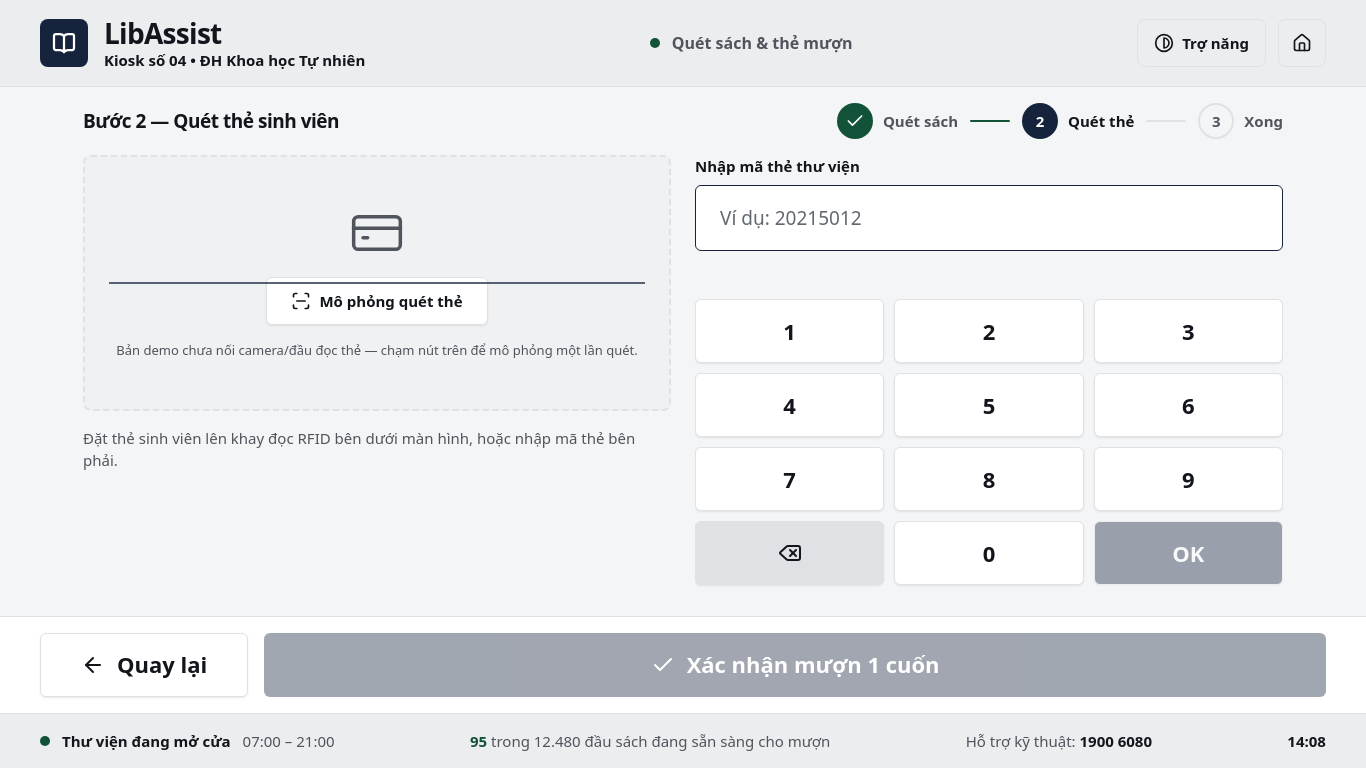
Step 2 — the card check › refuses an expired card and says how to fix it
Type "20219999" into the field labelled "Nhập mã thẻ thư viện" at (989, 218), box [720, 186, 1258, 250]
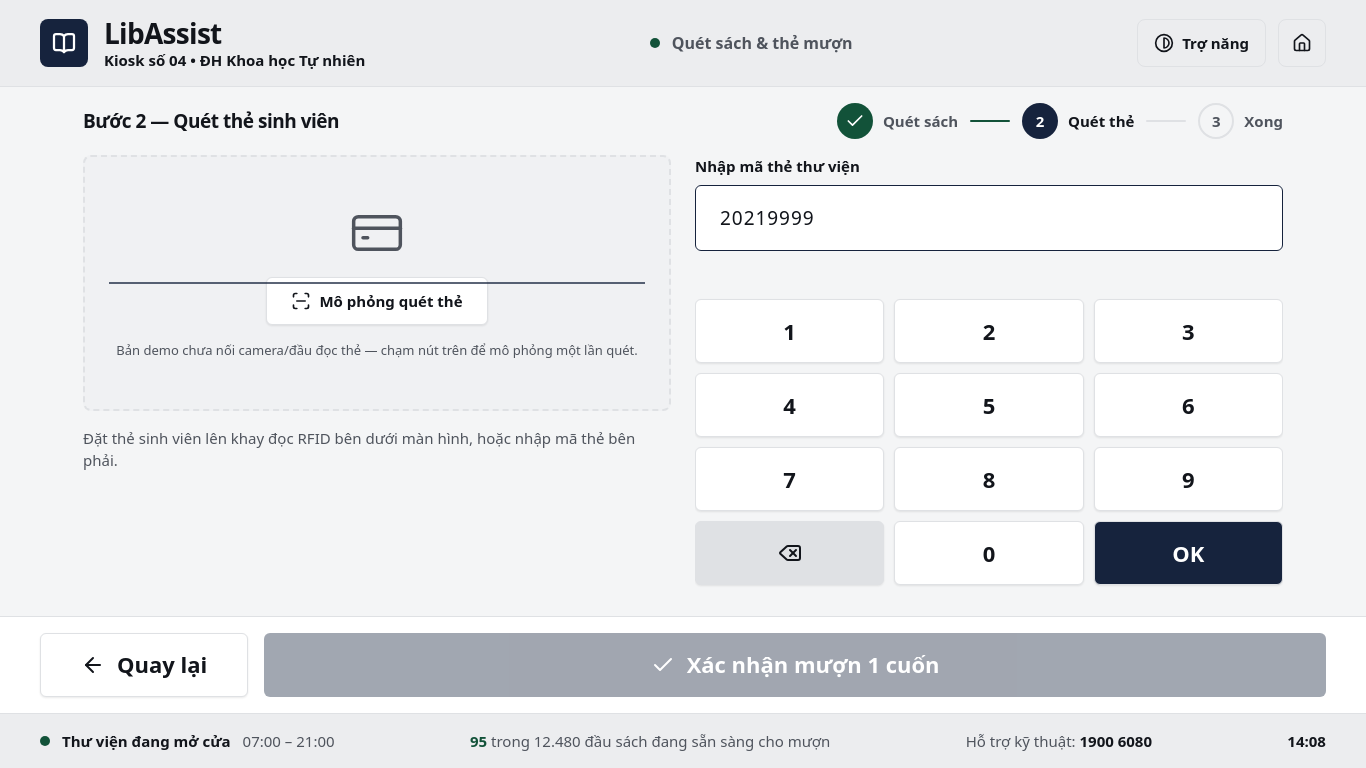
Click the button "OK" at (1188, 553), box [1094, 521, 1283, 585]
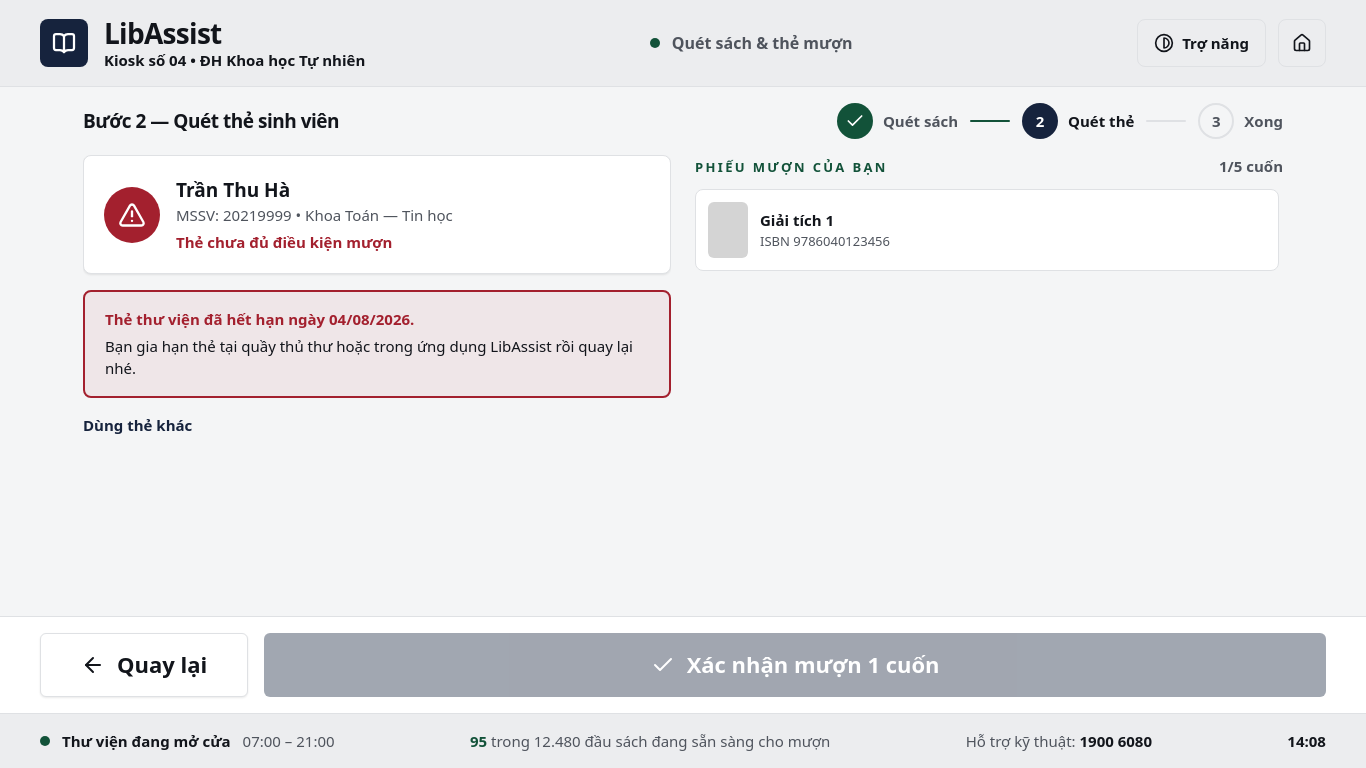
Check: the text "Thẻ chưa đủ điều kiện mượn" is shown, box [176, 232, 392, 252]
Check: the text "Thẻ thư viện đã hết hạn ngày 04/08/2026." is shown, box [105, 309, 414, 329]
Check: the text "gia hạn thẻ tại quầy thủ thư" is shown, box [105, 336, 633, 378]
